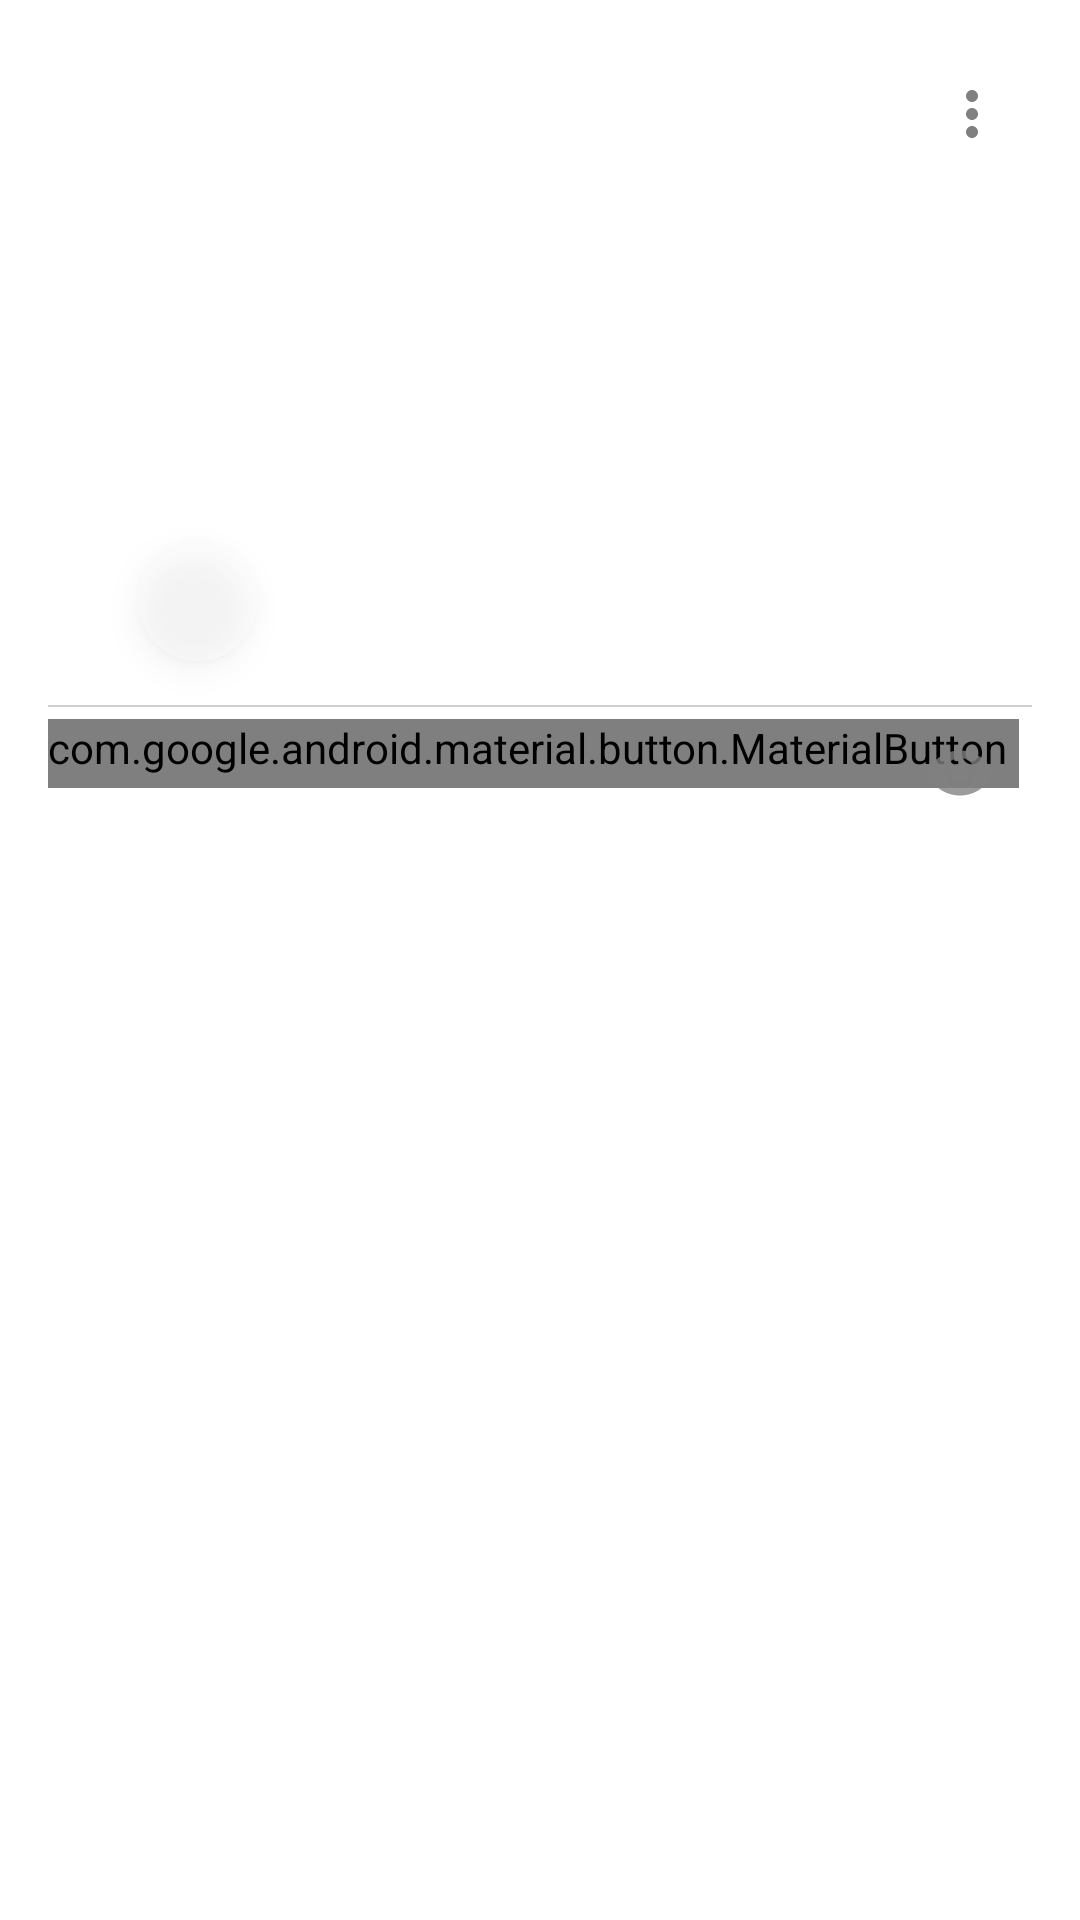

Screen size 1080×1920. Icon name, then its center in pixels as (x,y):
menu: (972,114)
